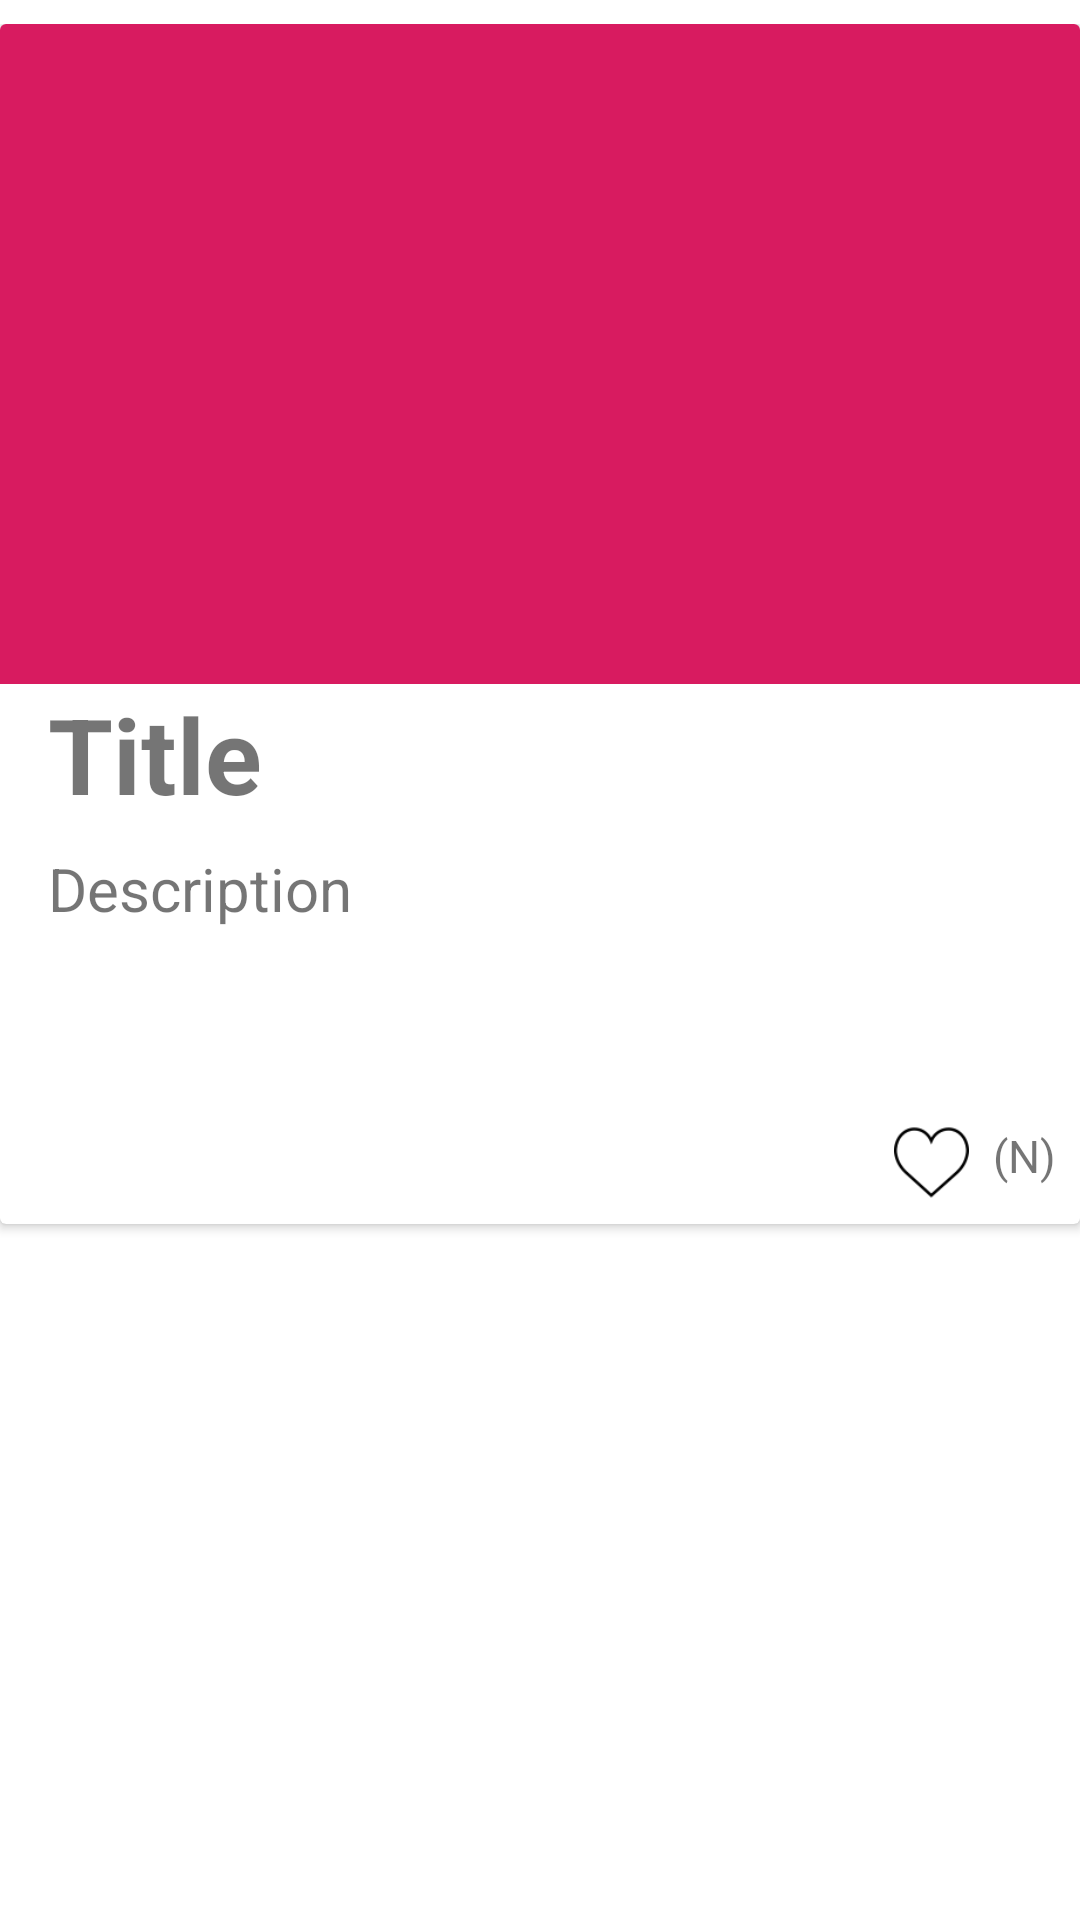

Icon click points for this 1080×1920 phone screenshot, format point (x, y):
heart: point (931, 1162)
